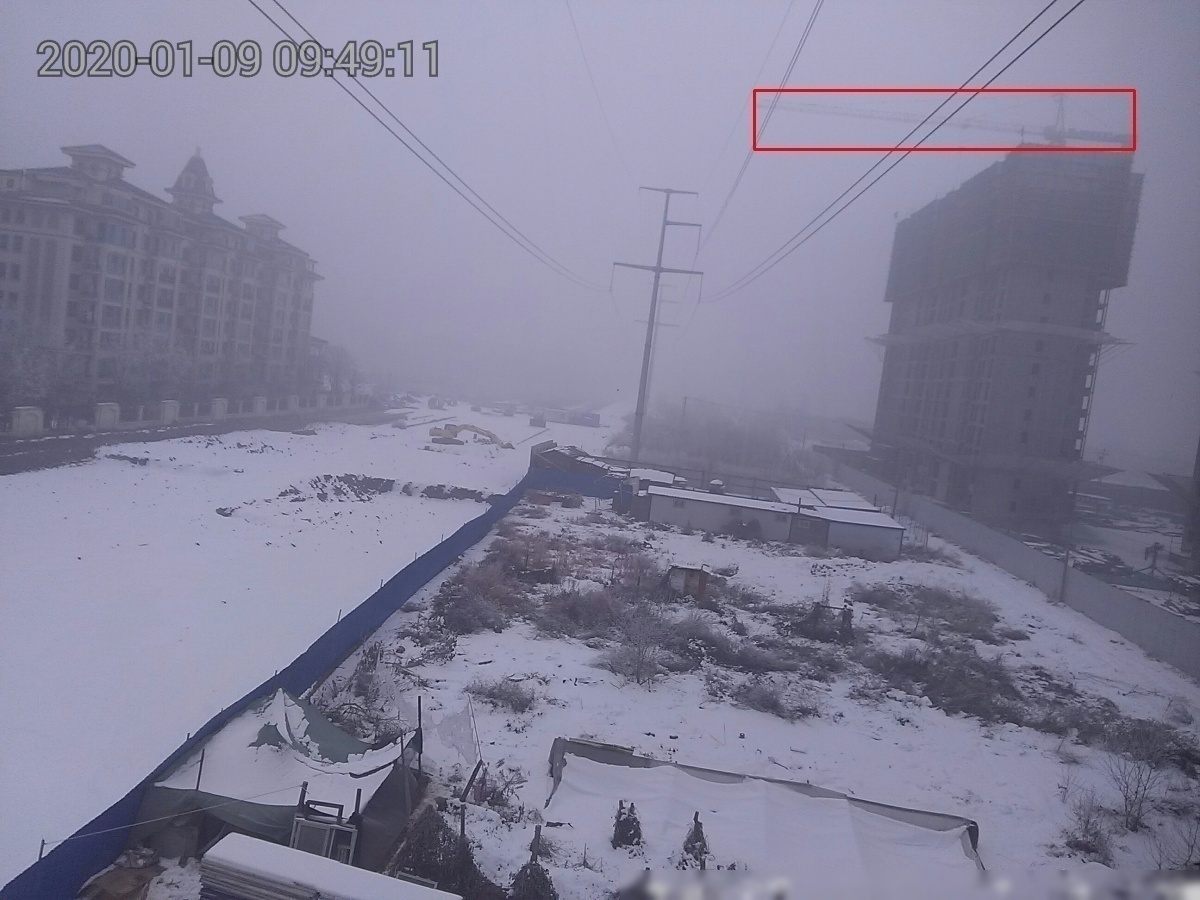gouche: (432, 419, 512, 454)
tadiao: (758, 94, 1138, 147)
